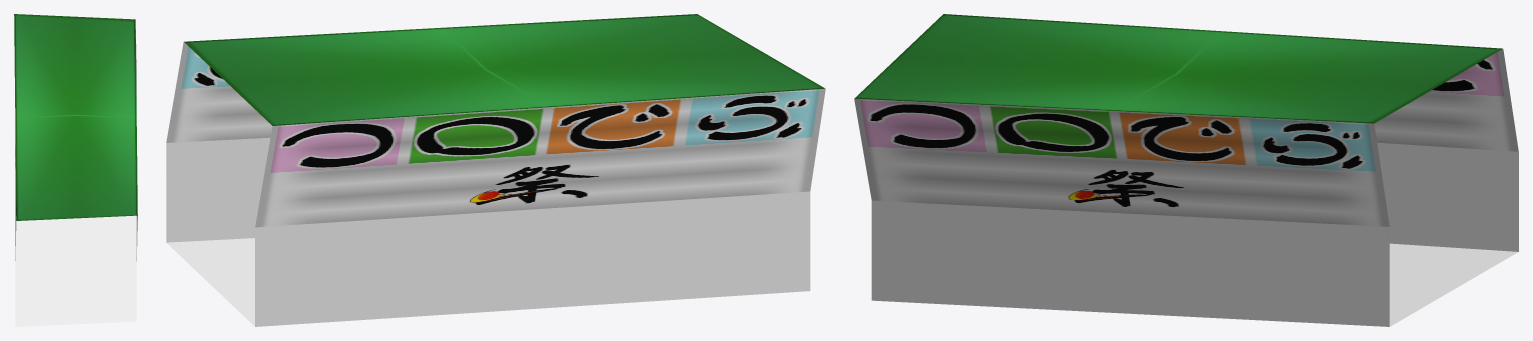
File: CourseWinter_Wall_R_15_13.fbx
The picture shows the model from 3 angles, left to right: view 1: azimuth 30°, elevation 25°; view 2: azimuth 150°, elevation 25°; view 3: azimuth 270°, elevation 25°; orthographic projection. The views are drawn at different scales.
Parts seen in each view (by area): view 1: polySurface574; view 2: polySurface574; view 3: polySurface574.
Part boxes in pixels (x1,y1,x2,y2): polySurface574: [14, 14, 137, 326]; polySurface574: [166, 14, 825, 326]; polySurface574: [854, 14, 1518, 326].
Size of the model in its own units: 4.6 by 2.98 by 6.02.
Materials: 1 (1 with a texture image).
